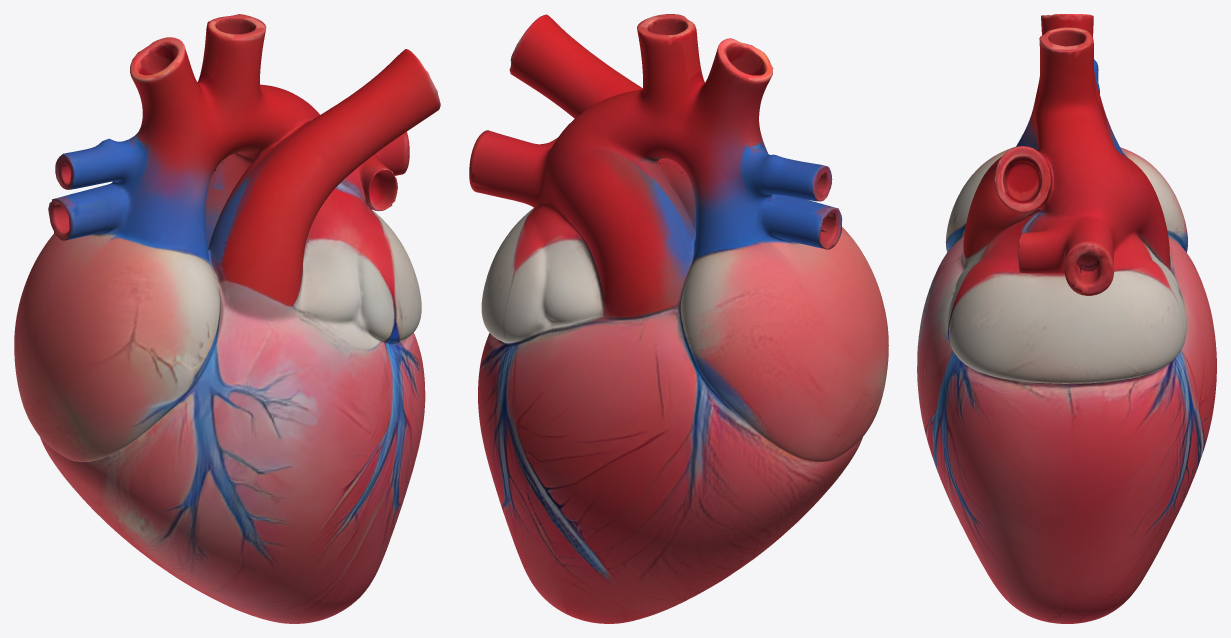
Rendered from cow_heart.glb.
3 views of the same model, side by side, from view 1: azimuth 30°, elevation 25°; view 2: azimuth 150°, elevation 25°; view 3: azimuth 270°, elevation 25° (orthographic). The views are drawn at different scales.
Parts seen in each view (by area): view 1: model; view 2: model; view 3: model.
Part boxes in pixels (x1,y1,x2,y2): model: (14, 14, 440, 623); model: (469, 14, 888, 623); model: (917, 14, 1216, 623).
Bounding box in the file's own units: 1.21 × 1.9 × 0.9352.
Materials: 1 (1 with a texture image).
